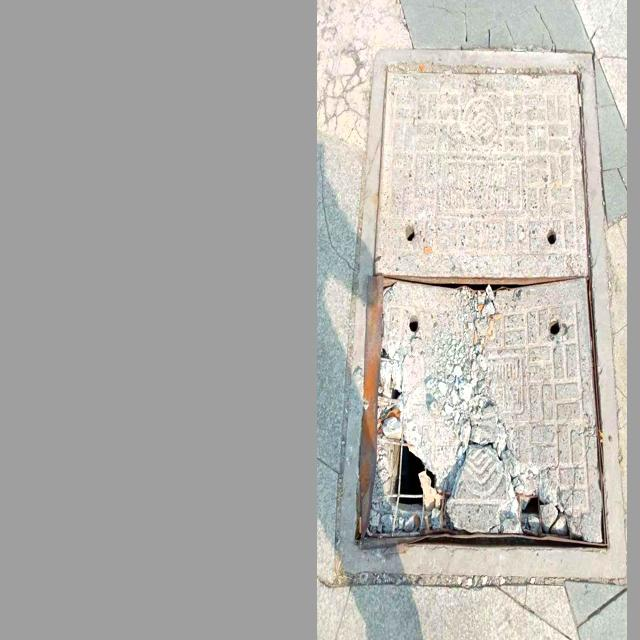broke: (337, 47, 627, 576)
